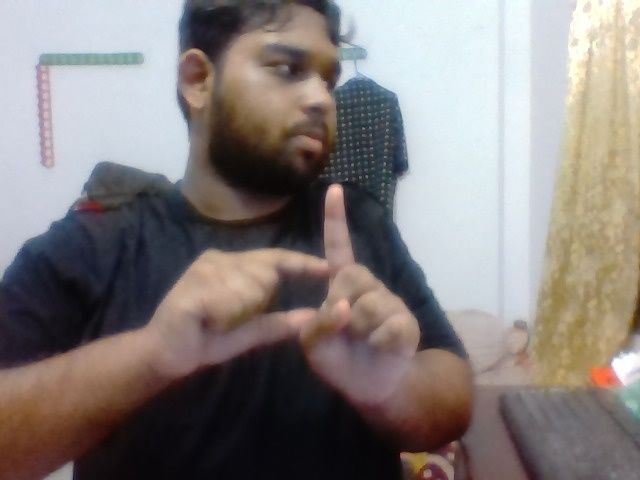D: (178, 169, 428, 389)
